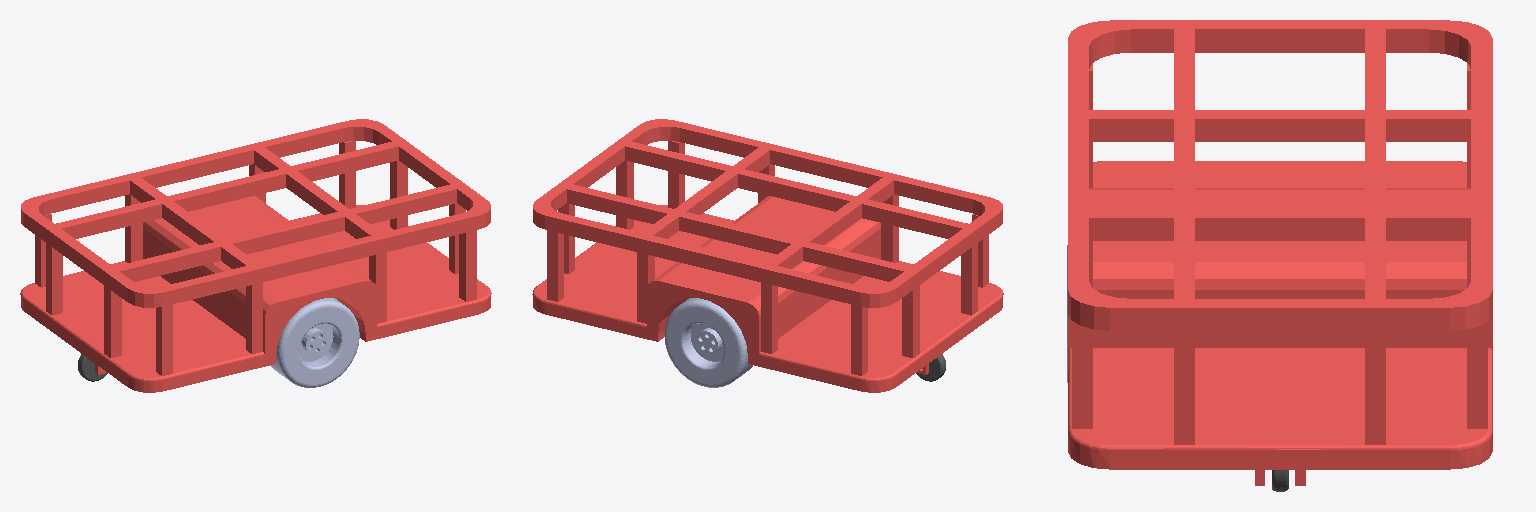
URDF robot description (car_model_t4):
<?xml version="1.0" encoding="utf-8"?>
<!-- This URDF was automatically created by SolidWorks to URDF Exporter! Originally created by [author] ([email redacted]) 
     Commit Version: 1.5.0-0-g9aa0fdb  Build Version: 1.5.7004.21443
     For more information, please see http://wiki.ros.org/sw_urdf_exporter -->
<robot
  name="car_model_t4">
  <link
    name="base_link">
    <inertial>
      <origin
        xyz="-6.4312E-06 -4.3368E-18 0.014523"
        rpy="0 0 0" />
      <mass
        value="0.18739" />
      <inertia
        ixx="0.00018258"
        ixy="-4.2641E-20"
        ixz="-2.7143E-08"
        iyy="0.00035976"
        iyz="1.3591E-22"
        izz="0.00047754" />
    </inertial>
    <visual>
      <origin
        xyz="0 0 0"
        rpy="0 0 0" />
      <geometry>
        <mesh
          filename="package://car_model_t4/meshes/base_link.STL" />
      </geometry>
      <material
        name="">
        <color
          rgba="1 0.40784 0.39216 1" />
      </material>
    </visual>
    <collision>
      <origin
        xyz="0 0 0"
        rpy="0 0 0" />
      <geometry>
        <mesh
          filename="package://car_model_t4/meshes/base_link.STL" />
      </geometry>
    </collision>
  </link>
  <link
    name="left_wheel">
    <inertial>
      <origin
        xyz="0 -0.00032962 0"
        rpy="0 0 0" />
      <mass
        value="0.013351" />
      <inertia
        ixx="1.4054E-06"
        ixy="3.7502E-23"
        ixz="3.2627E-24"
        iyy="2.3499E-06"
        iyz="-3.6116E-23"
        izz="1.4054E-06" />
    </inertial>
    <visual>
      <origin
        xyz="0 0 0"
        rpy="0 0 0" />
      <geometry>
        <mesh
          filename="package://car_model_t4/meshes/left_wheel.STL" />
      </geometry>
      <material
        name="">
        <color
          rgba="0.79608 0.82353 0.93725 1" />
      </material>
    </visual>
    <collision>
      <origin
        xyz="0 0 0"
        rpy="0 0 0" />
      <geometry>
        <mesh
          filename="package://car_model_t4/meshes/left_wheel.STL" />
      </geometry>
    </collision>
  </link>
  <joint
    name="base_to_left"
    type="continuous">
    <origin
      xyz="0 0.0425 0.003"
      rpy="0 0 0" />
    <parent
      link="base_link" />
    <child
      link="left_wheel" />
    <axis
      xyz="0 -1 0" />
    <safety_controller
      k_velocity="0" />
  </joint>
  <link
    name="right_wheel">
    <inertial>
      <origin
        xyz="0 0.00033063 -2.7756E-17"
        rpy="0 0 0" />
      <mass
        value="0.013453" />
      <inertia
        ixx="1.4184E-06"
        ixy="-3.676E-23"
        ixz="-1.1014E-23"
        iyy="2.3664E-06"
        iyz="-3.8005E-23"
        izz="1.4184E-06" />
    </inertial>
    <visual>
      <origin
        xyz="0 0 0"
        rpy="0 0 0" />
      <geometry>
        <mesh
          filename="package://car_model_t4/meshes/right_wheel.STL" />
      </geometry>
      <material
        name="">
        <color
          rgba="0.79608 0.82353 0.93725 1" />
      </material>
    </visual>
    <collision>
      <origin
        xyz="0 0 0"
        rpy="0 0 0" />
      <geometry>
        <mesh
          filename="package://car_model_t4/meshes/right_wheel.STL" />
      </geometry>
    </collision>
  </link>
  <joint
    name="base_to_right"
    type="continuous">
    <origin
      xyz="0 -0.04255 0.003"
      rpy="0 0 0" />
    <parent
      link="base_link" />
    <child
      link="right_wheel" />
    <axis
      xyz="0 -1 0" />
    <safety_controller
      k_velocity="0" />
  </joint>
  <link
    name="front_wheel">
    <inertial>
      <origin
        xyz="0 8.6736E-19 0"
        rpy="0 0 0" />
      <mass
        value="0.00059041" />
      <inertia
        ixx="7.8748E-09"
        ixy="2.9696E-24"
        ixz="-2.1139E-26"
        iyy="1.4243E-08"
        iyz="-2.6839E-25"
        izz="7.8748E-09" />
    </inertial>
    <visual>
      <origin
        xyz="0 0 0"
        rpy="0 0 0" />
      <geometry>
        <mesh
          filename="package://car_model_t4/meshes/front_wheel.STL" />
      </geometry>
      <material
        name="">
        <color
          rgba="0.41176 0.41176 0.41176 1" />
      </material>
    </visual>
    <collision>
      <origin
        xyz="0 0 0"
        rpy="0 0 0" />
      <geometry>
        <mesh
          filename="package://car_model_t4/meshes/front_wheel.STL" />
      </geometry>
    </collision>
  </link>
  <joint
    name="base_to_front"
    type="continuous">
    <origin
      xyz="0.0585 0 -0.008"
      rpy="0 0 0" />
    <parent
      link="base_link" />
    <child
      link="front_wheel" />
    <axis
      xyz="0 -1 0" />
    <safety_controller
      k_velocity="0" />
  </joint>
  <link
    name="back_wheel">
    <inertial>
      <origin
        xyz="0 0 0"
        rpy="0 0 0" />
      <mass
        value="0.00059041" />
      <inertia
        ixx="7.8748E-09"
        ixy="-1.0069E-24"
        ixz="-3.543E-24"
        iyy="1.4243E-08"
        iyz="1.3457E-25"
        izz="7.8748E-09" />
    </inertial>
    <visual>
      <origin
        xyz="0 0 0"
        rpy="0 0 0" />
      <geometry>
        <mesh
          filename="package://car_model_t4/meshes/back_wheel.STL" />
      </geometry>
      <material
        name="">
        <color
          rgba="0.41176 0.41176 0.41176 1" />
      </material>
    </visual>
    <collision>
      <origin
        xyz="0 0 0"
        rpy="0 0 0" />
      <geometry>
        <mesh
          filename="package://car_model_t4/meshes/back_wheel.STL" />
      </geometry>
    </collision>
  </link>
  <joint
    name="base_to_back"
    type="continuous">
    <origin
      xyz="-0.0715 0 -0.008"
      rpy="0 0 0" />
    <parent
      link="base_link" />
    <child
      link="back_wheel" />
    <axis
      xyz="0 -1 0" />
    <safety_controller
      k_velocity="0" />
  </joint>
</robot>

--- What the picture shows (computed from the rendered views, not written in the file) ---
3 views of the same robot in one strip: view 1: azimuth 30°, elevation 25°; view 2: azimuth 150°, elevation 25°; view 3: azimuth 270°, elevation 25° (orthographic).
Robot: car_model_t4 — 5 links, 4 joints (4 continuous); root link base_link; default pose: all joints at 0.
Links seen in each view (by area): view 1: base_link, right_wheel; view 2: base_link, left_wheel; view 3: base_link.
Link boxes in pixels (x1,y1,x2,y2): base_link: [20, 119, 491, 392]; right_wheel: [270, 298, 359, 387]; base_link: [532, 119, 1003, 392]; left_wheel: [664, 298, 752, 387]; base_link: [1068, 20, 1492, 485].
Size in the robot's own frame: 0.16 by 0.1001 by 0.057 metres.
5 mesh visuals loaded from 5 distinct referenced files (5 binary STL).